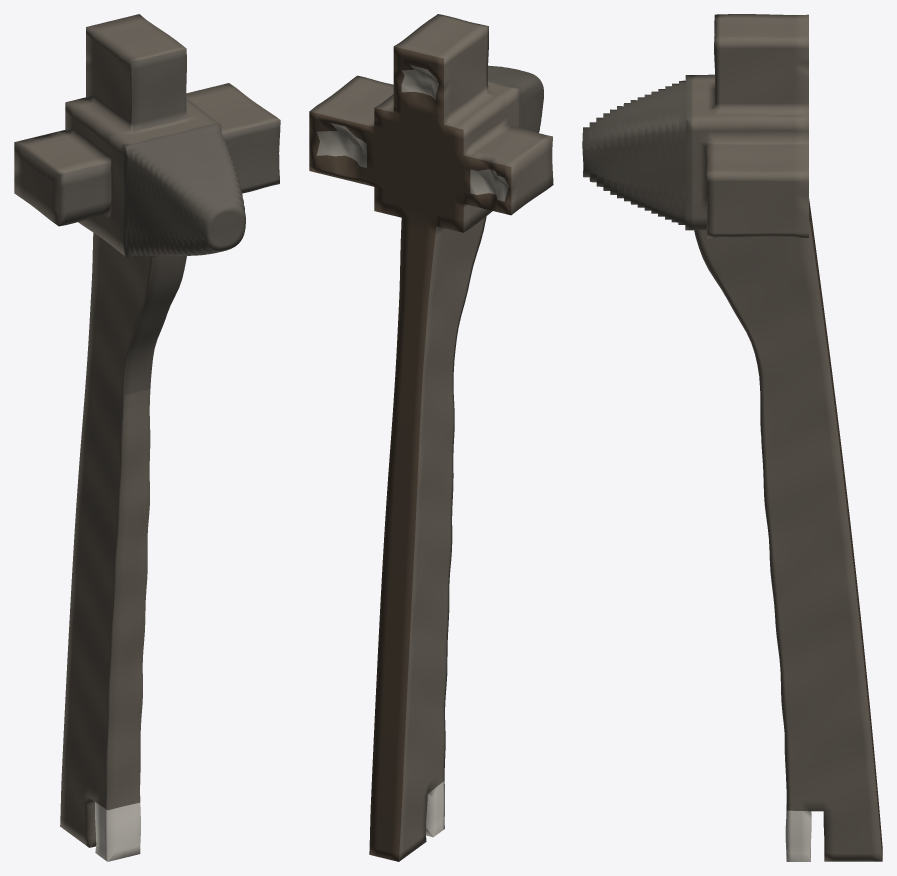
File: newgrange_acoustic_interior.obj
The picture shows the model from 3 angles, left to right: view 1: azimuth 30°, elevation 25°; view 2: azimuth 150°, elevation 25°; view 3: azimuth 270°, elevation 25°; orthographic projection. The views are drawn at different scales.
Visible parts, largest first — view 1: newgrange_acoustic_interior; view 2: newgrange_acoustic_interior; view 3: newgrange_acoustic_interior.
Part boxes in pixels (x1,y1,x2,y2): newgrange_acoustic_interior: (14,14,280,861); newgrange_acoustic_interior: (309,14,553,861); newgrange_acoustic_interior: (582,14,882,861).
Size of the model in its own units: 6.57 by 24.22 by 7.97.
